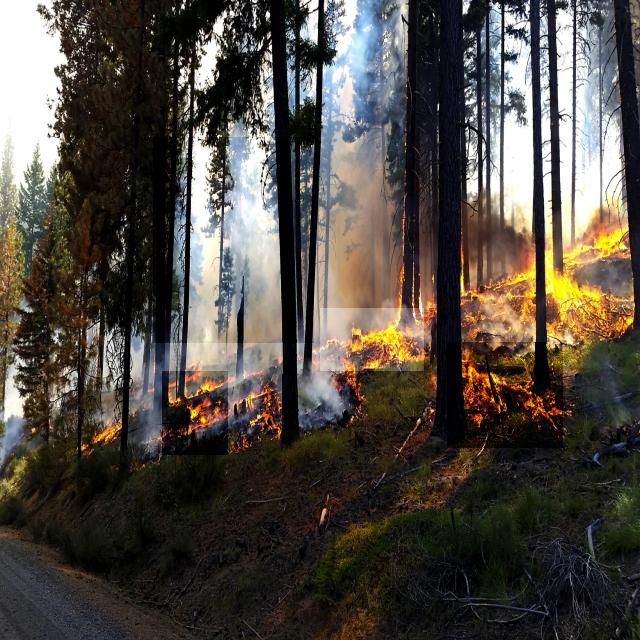Fire: (514, 213, 632, 343), (448, 342, 564, 448), (320, 308, 424, 371), (162, 372, 228, 456), (240, 374, 284, 446), (79, 411, 122, 452)
Smoke: (315, 0, 537, 257), (153, 137, 314, 343)
